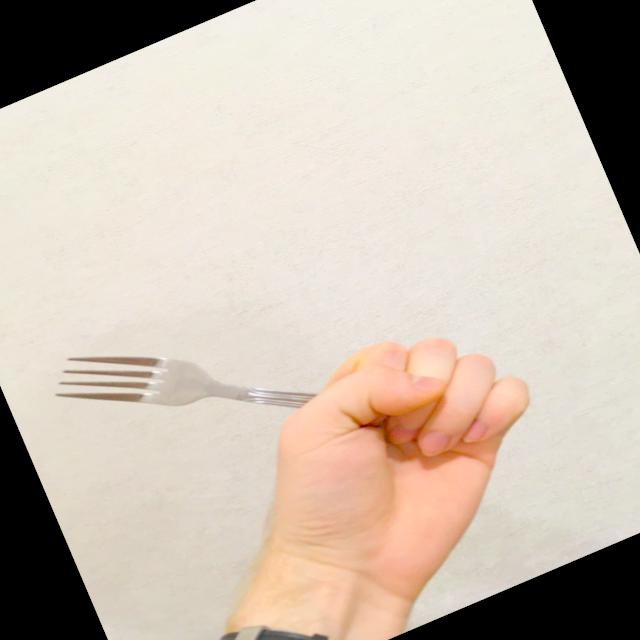fork: (42, 237, 405, 524)
